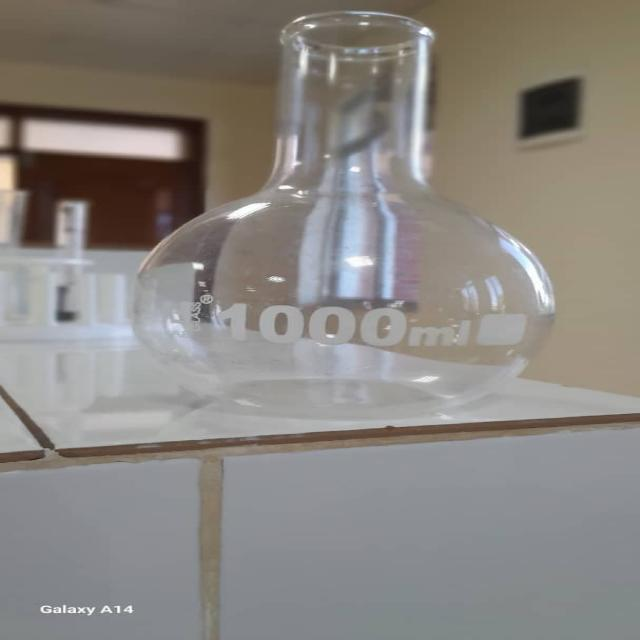Round Bottom Flask: (128, 12, 568, 416)
